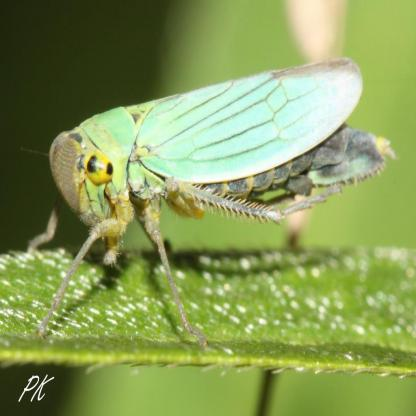Green-Leafhopper: (28, 60, 398, 359)
